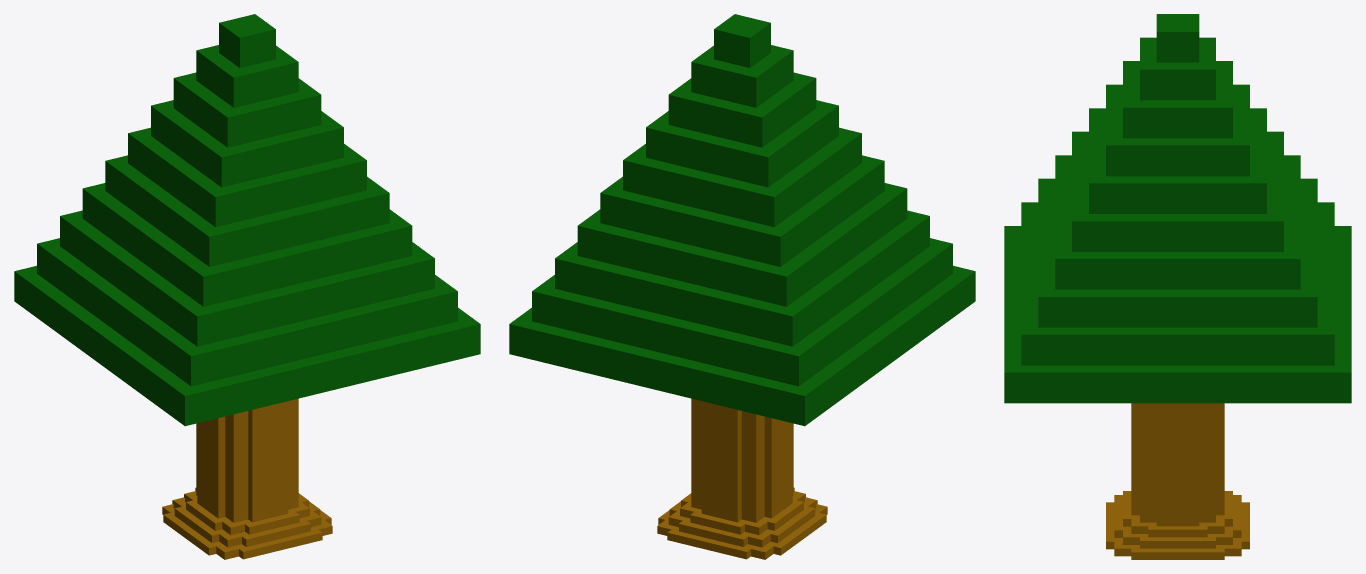
Rendered from tree04-2.fbx.
The picture shows the model from 3 angles, left to right: view 1: azimuth 30°, elevation 25°; view 2: azimuth 150°, elevation 25°; view 3: azimuth 270°, elevation 25°; orthographic projection.
Visible parts, largest first — view 1: Tree04-2, Tree02-Stem, Tree02-Root; view 2: Tree04-2, Tree02-Stem, Tree02-Root; view 3: Tree04-2, Tree02-Stem, Tree02-Root.
Boxes of the visible parts, left/top/right/bottom form: Tree04-2: left=14, top=14, right=480, bottom=426; Tree02-Stem: left=196, top=398, right=298, bottom=522; Tree02-Root: left=162, top=487, right=332, bottom=559; Tree04-2: left=509, top=14, right=975, bottom=426; Tree02-Stem: left=691, top=398, right=793, bottom=522; Tree02-Root: left=657, top=487, right=827, bottom=559; Tree04-2: left=1004, top=14, right=1351, bottom=403; Tree02-Stem: left=1131, top=403, right=1224, bottom=526; Tree02-Root: left=1106, top=491, right=1249, bottom=559.
Size of the model in its own units: 410 by 660 by 410.
